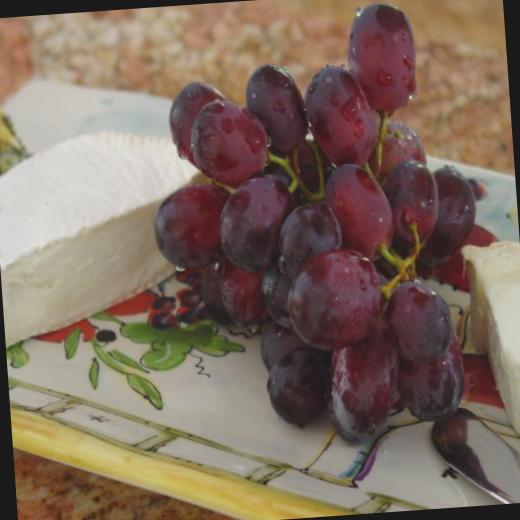Orange: (138, 0, 494, 455)
